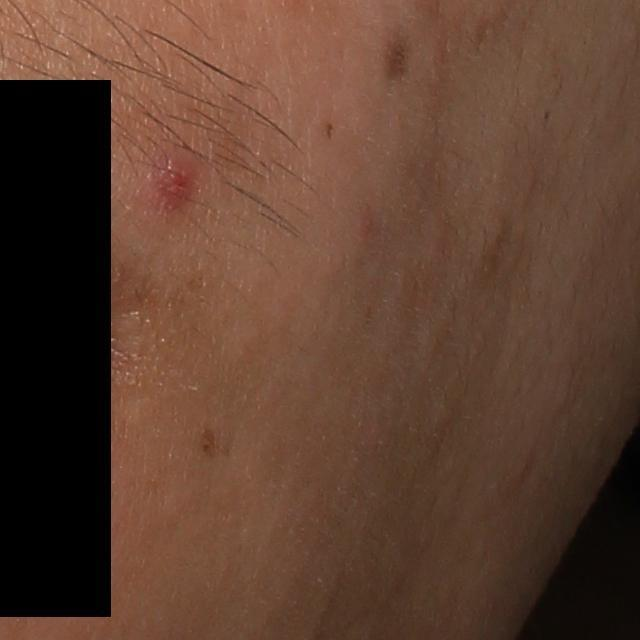nevus: (383, 19, 422, 92)
papule: (145, 147, 202, 213)
